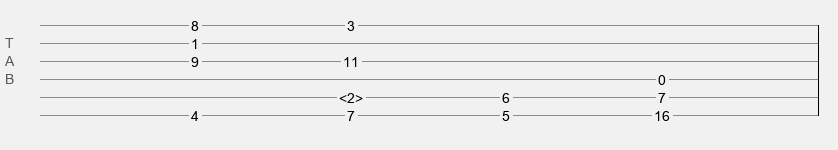0: (658, 72, 666, 82)
1: (191, 36, 199, 46)
11: (343, 54, 359, 64)
16: (654, 108, 670, 118)
3: (347, 18, 355, 28)
4: (191, 108, 199, 118)
5: (502, 108, 510, 118)
6: (502, 90, 510, 100)
7: (347, 108, 355, 118), (658, 90, 666, 100)
8: (191, 18, 199, 28)
9: (191, 54, 199, 64)
harmonic: (339, 90, 363, 100)
